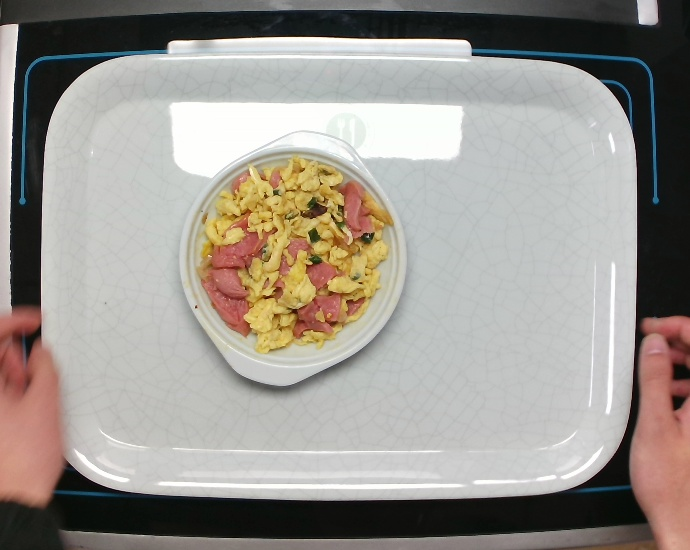JYsf-Shuang_Er_Pan: (176, 127, 408, 389)
